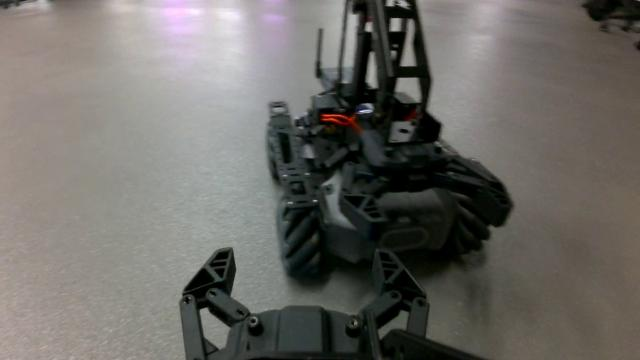robot: (266, 0, 516, 284)
